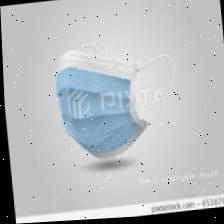mask: (41, 19, 185, 169)
